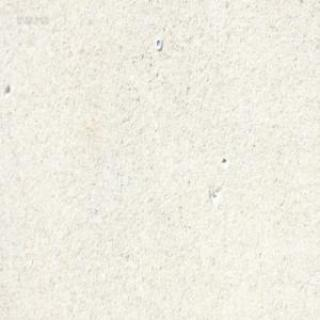Washertrack_idkeyframe: (154, 36, 161, 50)
